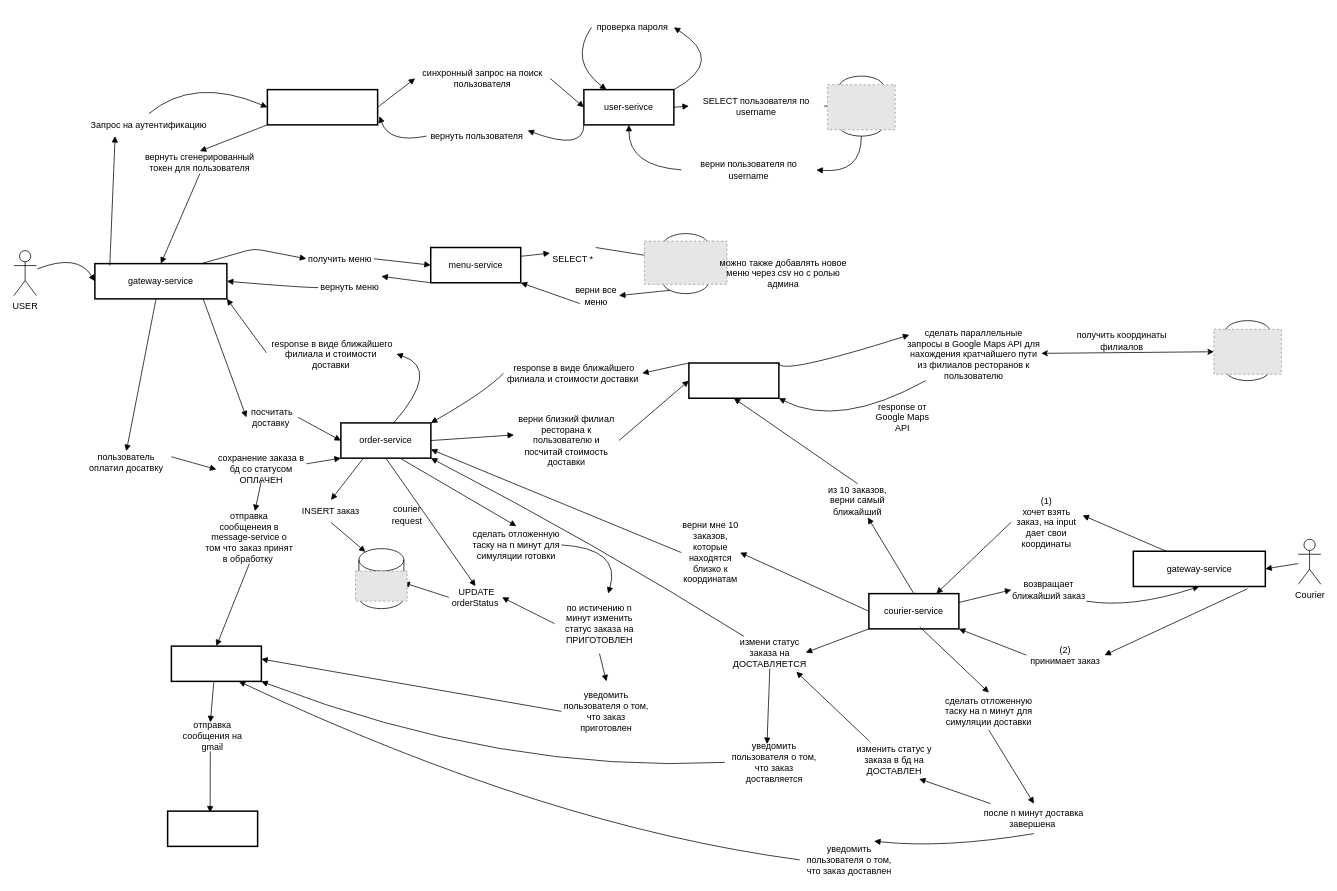
This 1337x891 diagram has some shape labels left out. Grey dashed boxes stand in for pictures. The centre of each missing label's shape, as x and y in pixels:
"auth-service" belongs at (322,106).
"kafka" belongs at (216,663).
"message service" belongs at (212,828).
"routre-service" belongs at (733,380).
